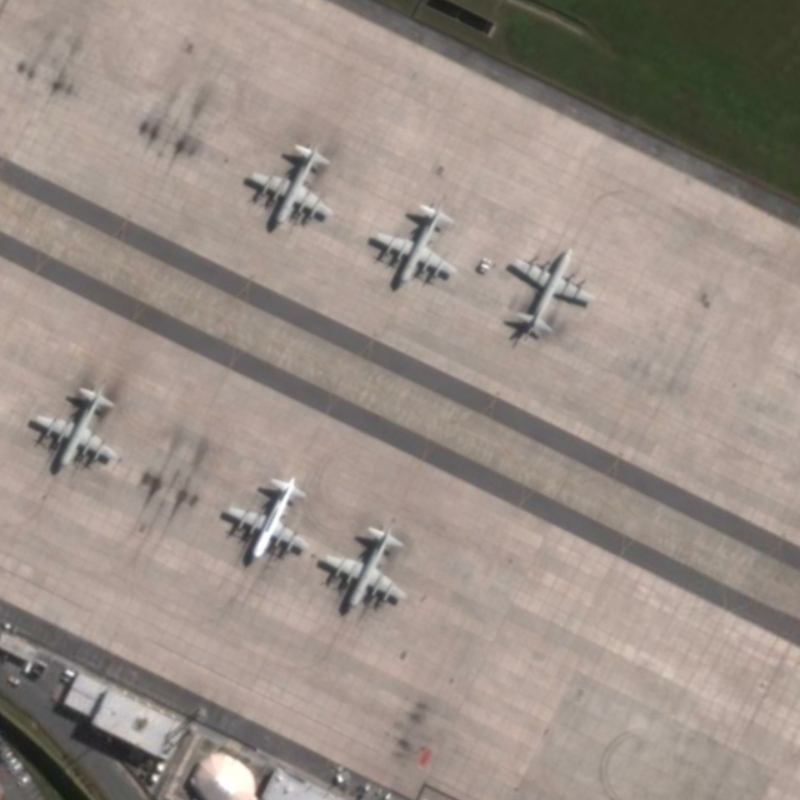A9: (493, 239, 598, 345), (234, 134, 339, 239), (213, 464, 313, 572), (26, 374, 123, 482), (365, 188, 463, 294), (315, 517, 413, 619)
